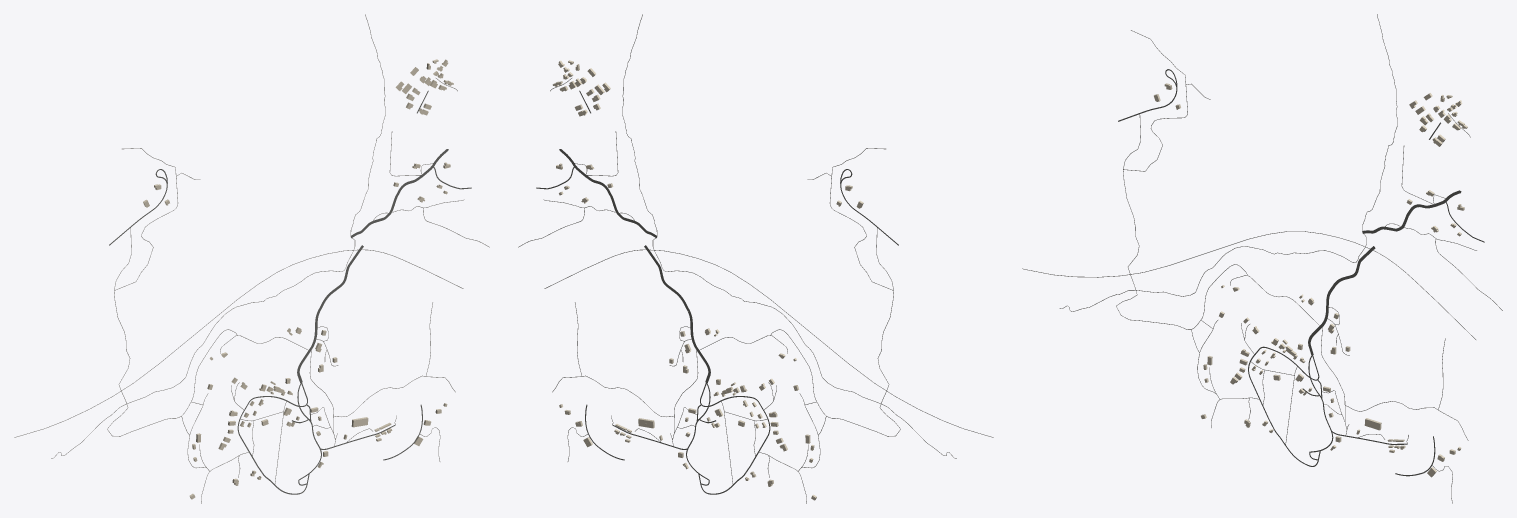
The model's file is historic-palestine-11_26_3533_3204.glb.
3 views of the same model, side by side, from view 1: azimuth 30°, elevation 25°; view 2: azimuth 150°, elevation 25°; view 3: azimuth 330°, elevation 25° (orthographic).
Visible parts, largest first — view 1: Road .001; view 2: Road .001; view 3: Road .001.
Boxes of the visible parts, bbox=[...] form: Road .001: bbox=[51, 14, 385, 458]; Road .001: bbox=[622, 14, 956, 458]; Road .001: bbox=[1059, 14, 1397, 311].
Size of the model in its own units: 1461 by 1369 by 8.7.
